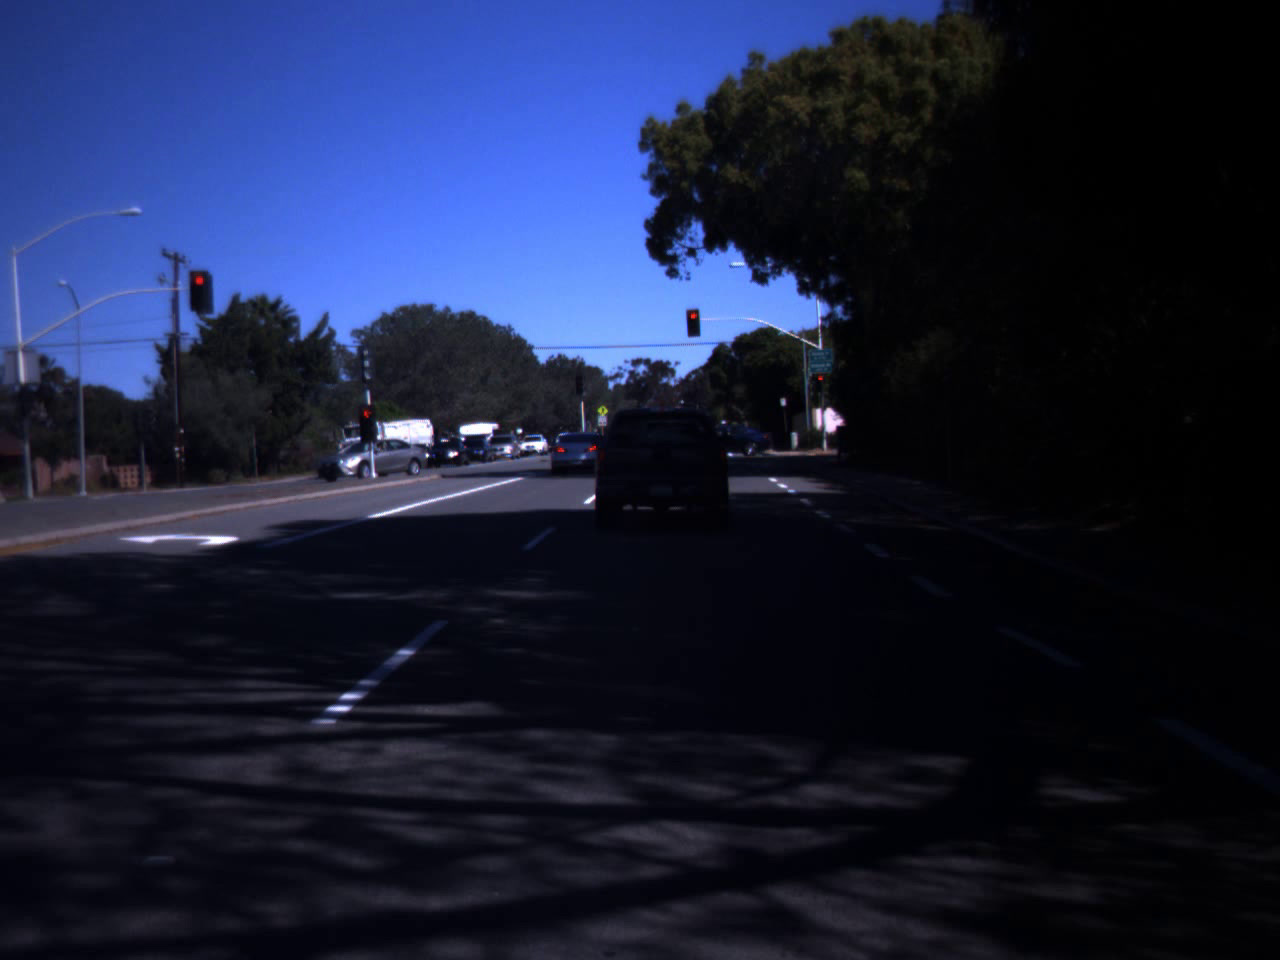stop: (190, 275, 208, 302), (360, 407, 372, 438), (688, 312, 700, 330)
